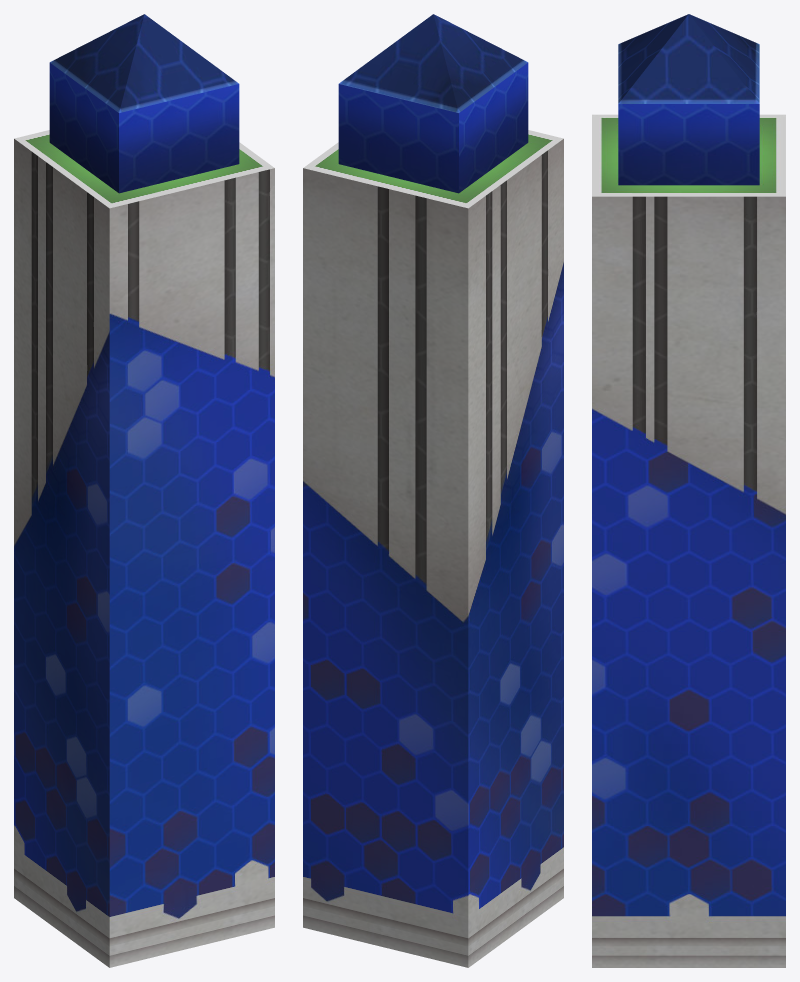
The model's file is House_7(2).fbx.
3 views of the same model, side by side, from view 1: azimuth 30°, elevation 25°; view 2: azimuth 150°, elevation 25°; view 3: azimuth 270°, elevation 25° (orthographic).
Parts seen in each view (by area): view 1: House_7; view 2: House_7; view 3: House_7.
Part boxes in pixels (<box>): House_7: <box>14,14,274,967</box>; House_7: <box>303,14,563,967</box>; House_7: <box>592,14,785,967</box>.
Size of the model in its own units: 25 by 130 by 25.
Materials: 1 (1 with a texture image).
